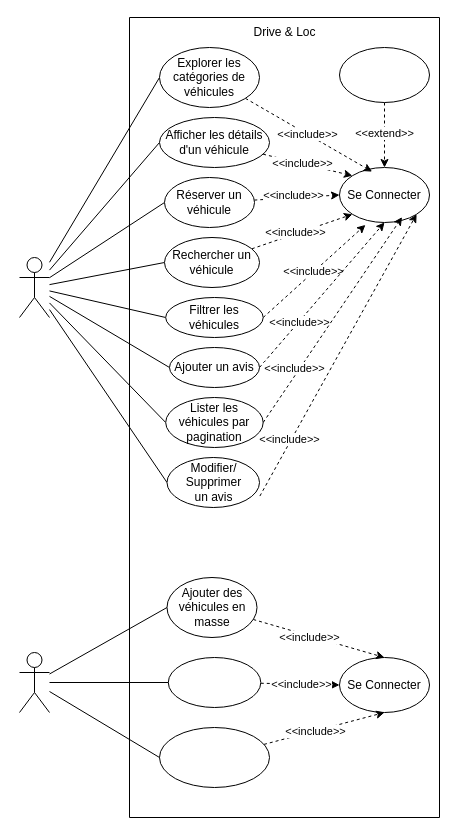
Image size: 457x835. Some labels were removed from this diagram. Here are the shapes that lost their labels. From the top down, the box of each, then its label:
(338, 46, 430, 102): S'inscrire
(18, 256, 50, 318): Client
(18, 652, 50, 712): Admin
(167, 656, 261, 708): Gérer les réservations
(158, 726, 270, 788): Gérer les avis et catégories
